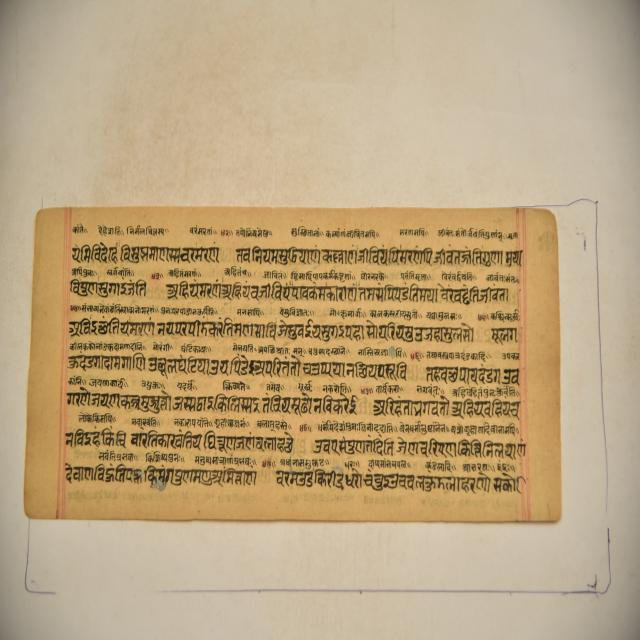text_paragraph: (22, 206, 558, 528)
